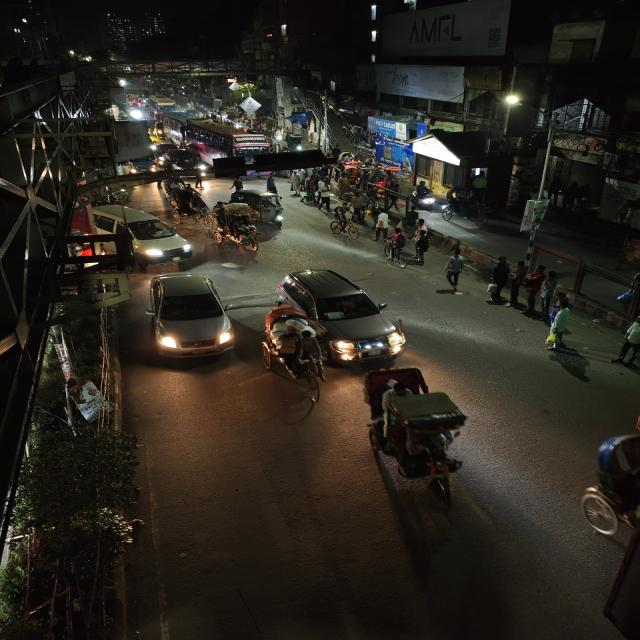bicycle: (331, 204, 363, 241)
bus: (183, 119, 275, 164)
car: (276, 266, 416, 370), (142, 270, 237, 366), (88, 204, 194, 264), (160, 150, 207, 174)
cng: (244, 192, 287, 226)
motorcycle: (411, 181, 438, 213)
pedestrian: (542, 304, 582, 354), (615, 312, 640, 371), (498, 259, 528, 307), (532, 265, 558, 313), (520, 266, 547, 310), (441, 252, 470, 290), (487, 256, 511, 300), (384, 228, 408, 262), (413, 229, 433, 264), (317, 180, 335, 214), (373, 209, 391, 241), (302, 174, 320, 204), (377, 220, 396, 247), (286, 169, 302, 197)
pickup_van: (124, 154, 160, 175)
rickshaw: (363, 366, 480, 503), (256, 300, 324, 400), (208, 202, 262, 256), (438, 185, 496, 230), (167, 190, 217, 232)
